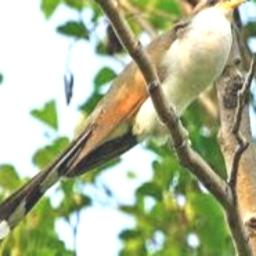Cuckoo: (0, 0, 249, 240)
